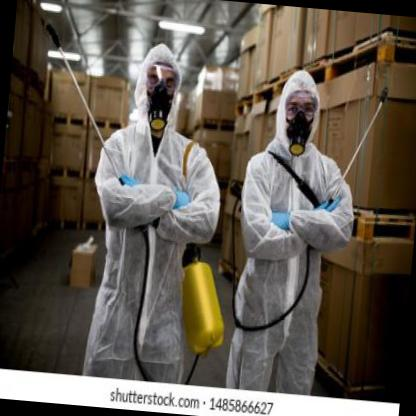Gloves: (313, 192, 343, 211), (170, 188, 194, 210), (270, 210, 290, 230), (121, 173, 141, 187)
